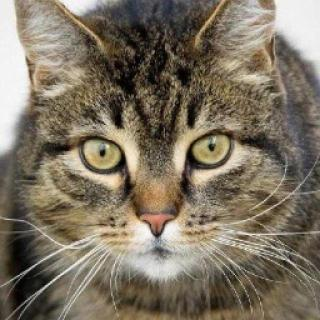cat: (14, 0, 296, 284)
nose: (131, 199, 179, 244)
